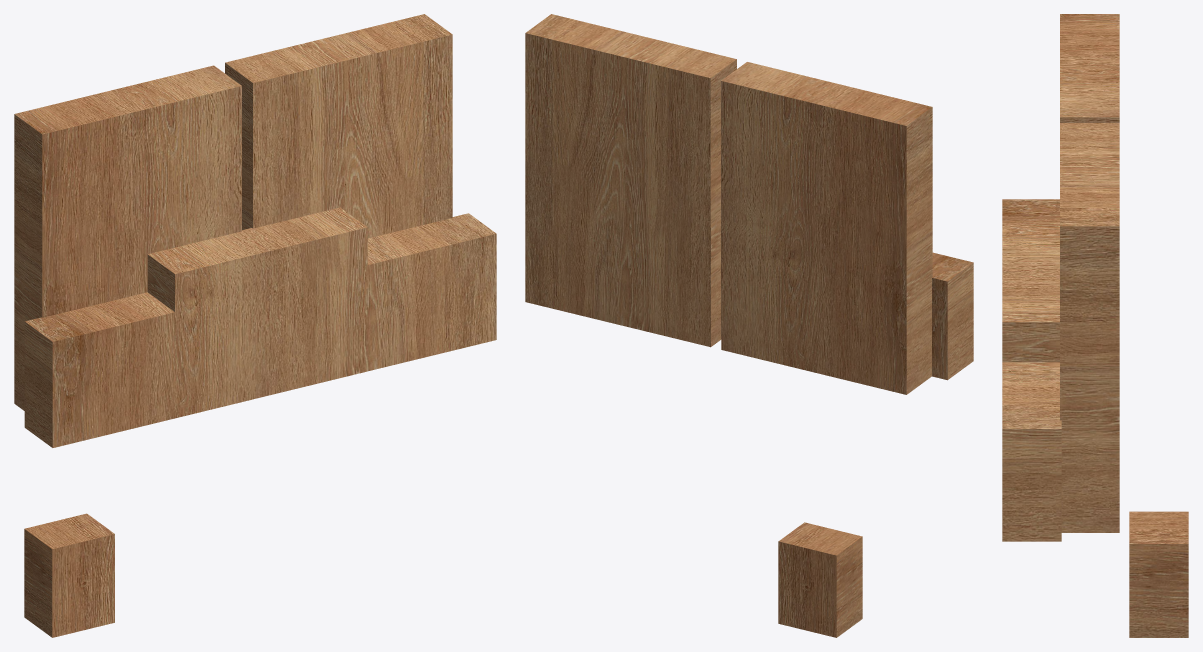
The model's file is 38527_gpt-only.glb.
The picture shows the model from 3 angles, left to right: view 1: azimuth 30°, elevation 25°; view 2: azimuth 150°, elevation 25°; view 3: azimuth 270°, elevation 25°; orthographic projection. The views are drawn at different scales.
Visible parts, largest first — view 1: ParentEmpty; view 2: ParentEmpty; view 3: ParentEmpty.
Part boxes in pixels (x1,y1,x2,y2): ParentEmpty: (14, 14, 496, 637); ParentEmpty: (525, 14, 973, 637); ParentEmpty: (1002, 14, 1188, 637).
Bounding box in the file's own units: 0.8642 × 1 × 0.2965.
Materials: 1 (1 with a texture image).
